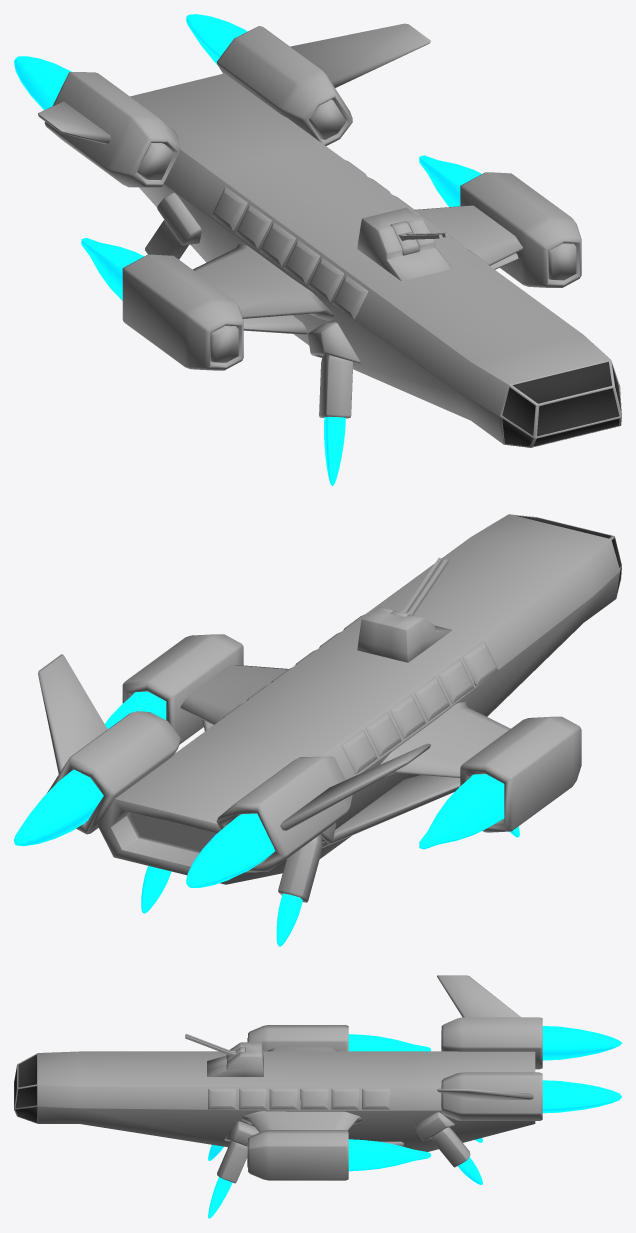
The model's file is Spaceship01.fbx.
3 renders of one model, top to bottom at view 1: azimuth 30°, elevation 25°; view 2: azimuth 150°, elevation 25°; view 3: azimuth 270°, elevation 25°, orthographic. The views are drawn at different scales.
Visible parts, largest first — view 1: Cube, Cube.002, Cube.005, Cube.001, Cube.006, Cube.010, Cube.011, Cube.015, Cube.014, Cube.003, Cube.009, Cube.008 (+3 smaller); view 2: Cube, Cube.002, Cube.005, Cube.001, Cube.015, Cube.006, Cube.010, Cube.014, Cube.011, Cube.007, Cube.016, Cube.004 (+1 smaller); view 3: Cube, Cube.005, Cube.002, Cube.015, Cube.010, Cube.014, Cube.006, Cube.001, Cube.011, Cube.004, Cube.003, Cube.009 (+3 smaller).
Part boxes in pixels (x1,y1,x2,y2): Cube: (130,73,621,447); Cube.002: (122,172,581,370); Cube.005: (44,26,352,187); Cube.001: (193,205,522,320); Cube.006: (38,23,430,144); Cube.010: (211,160,486,320); Cube.011: (357,207,452,280); Cube.015: (14,14,247,109); Cube.014: (81,155,481,300); Cube.003: (319,354,353,418); Cube.009: (157,192,201,245); Cube.008: (308,322,360,364); Cube: (97,514,621,884); Cube.002: (122,634,581,832); Cube.005: (46,711,352,872); Cube.001: (180,665,510,777); Cube.015: (14,769,275,887); Cube.006: (38,654,430,830); Cube.010: (222,614,498,773); Cube.014: (105,691,504,849); Cube.011: (357,607,452,662); Cube.007: (202,719,460,847); Cube.016: (141,866,302,946); Cube.004: (278,835,322,902); Cube: (14,1051,535,1151); Cube.005: (441,1017,542,1120); Cube.002: (247,1025,348,1180); Cube.015: (542,1026,621,1113); Cube.010: (208,1088,389,1109); Cube.014: (348,1034,430,1171); Cube.006: (437,975,533,1099); Cube.001: (241,1047,362,1132); Cube.011: (207,1042,263,1076); Cube.004: (431,1127,470,1167); Cube.003: (217,1141,247,1183); Cube.009: (415,1112,454,1141).
Size of the model in its own units: 693 by 420 by 1467.
